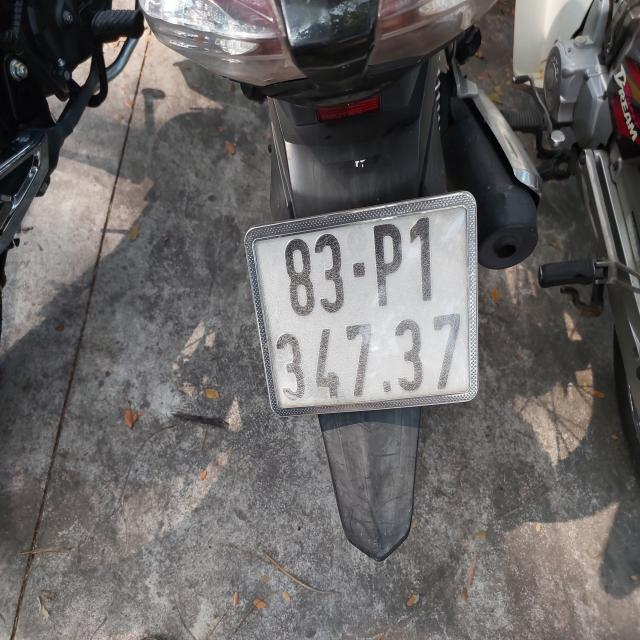1: (407, 215, 439, 301)
3: (313, 226, 346, 314), (274, 330, 308, 403), (393, 319, 424, 395)
4: (314, 326, 342, 399)
7: (432, 312, 462, 391), (344, 319, 374, 396)
8: (285, 236, 318, 317)
P: (373, 224, 402, 310)
